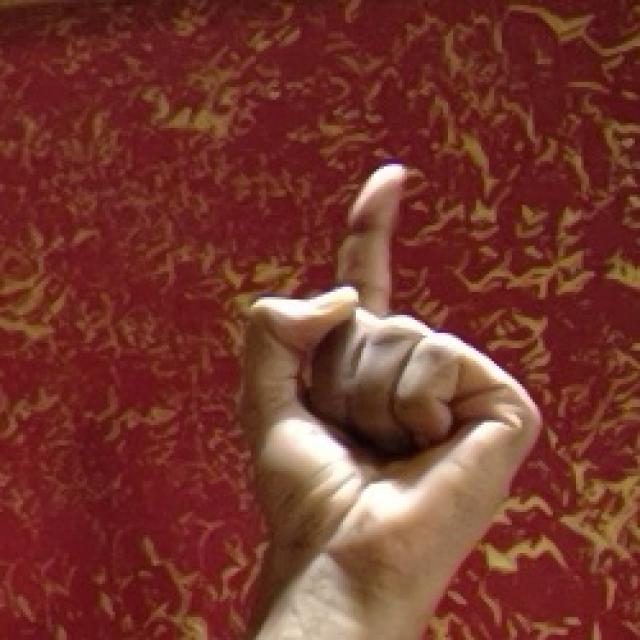Numeric-1: (242, 155, 543, 595)
